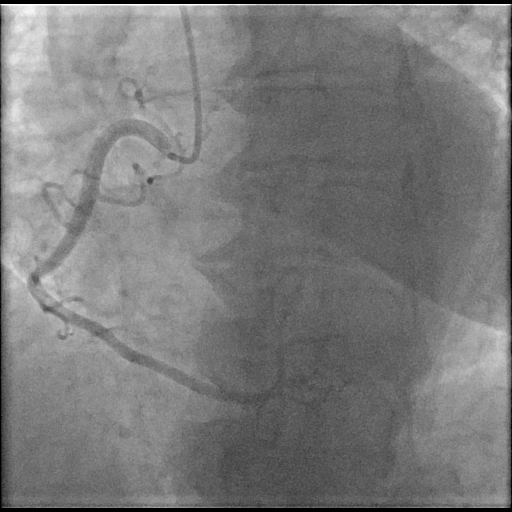RCA: (27, 118, 276, 404)
catherter: (168, 5, 202, 165)
